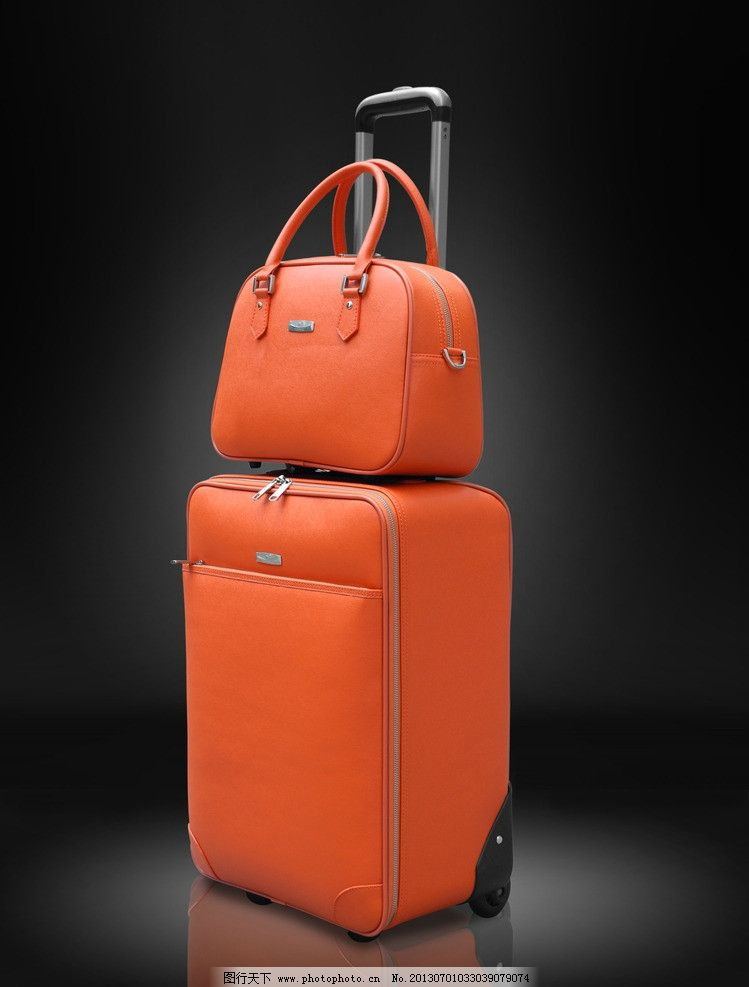luggage: (171, 85, 518, 945)
